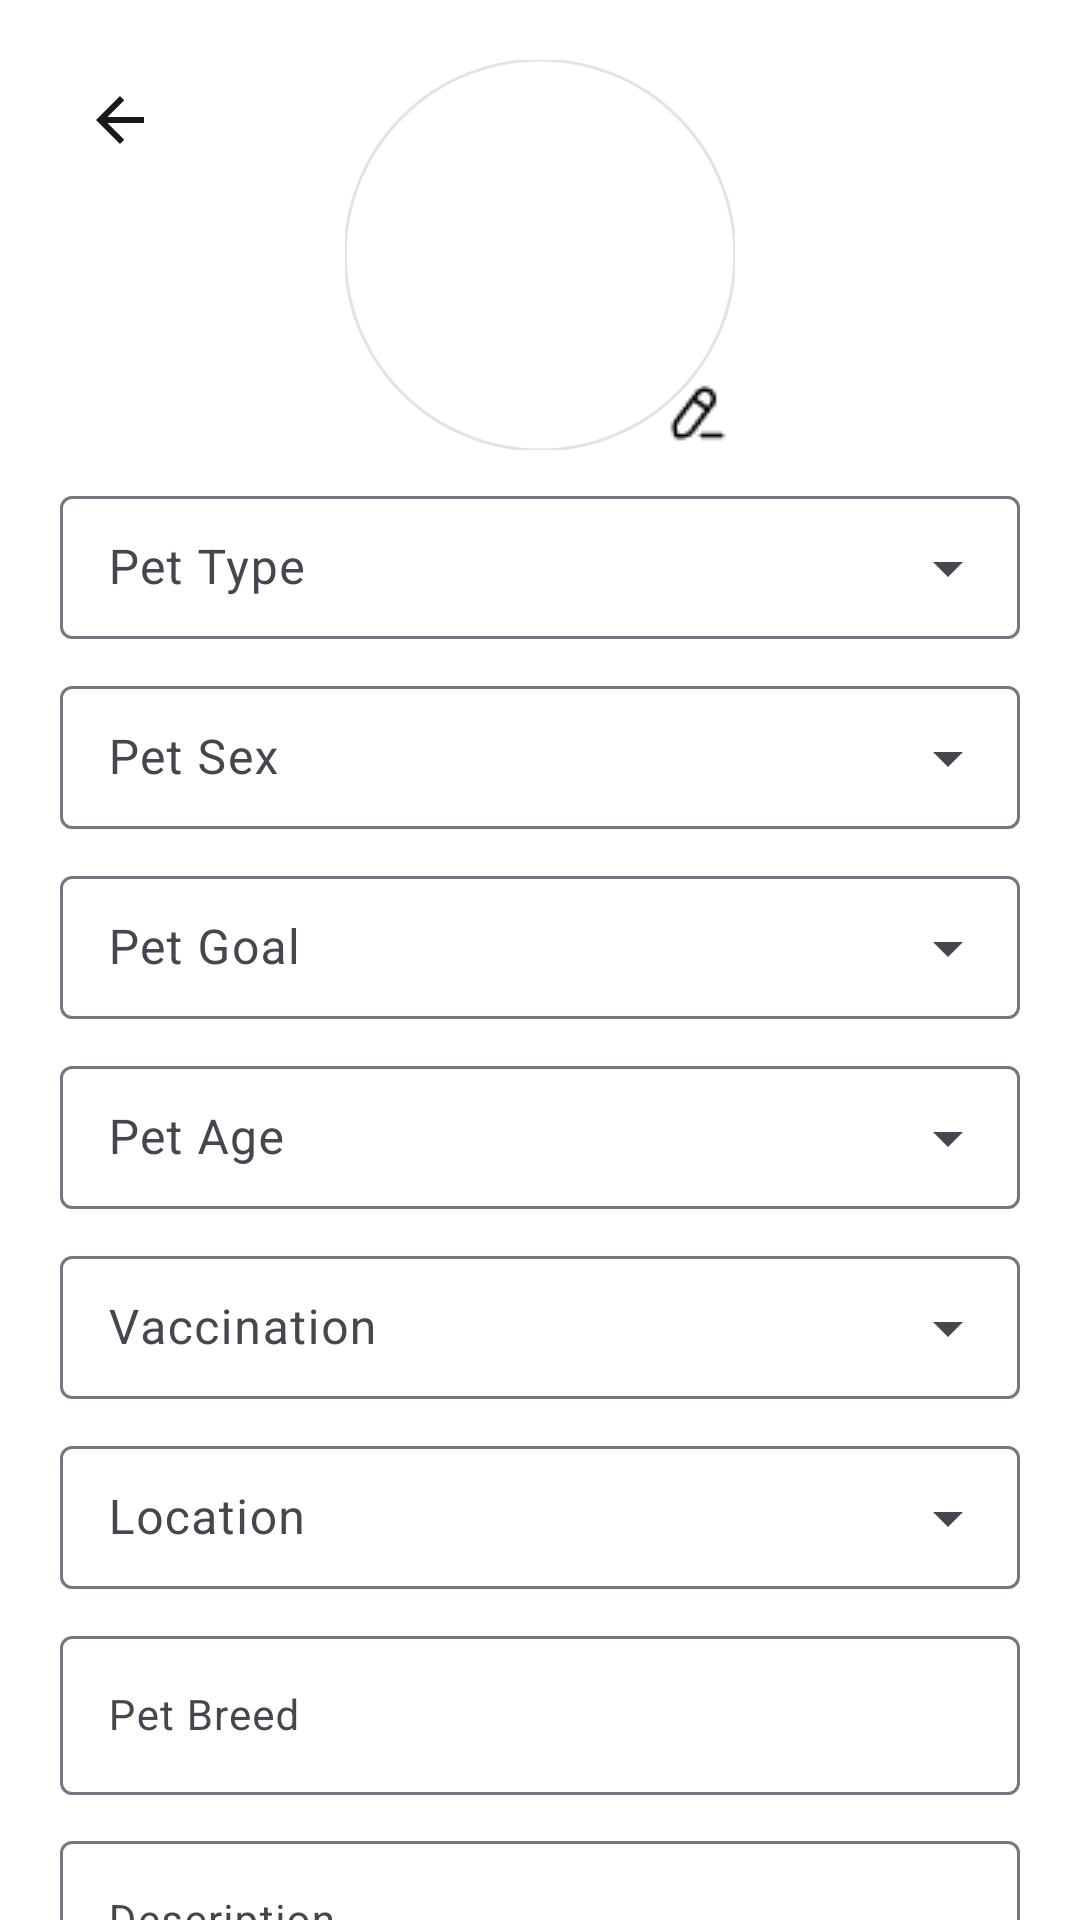

Where icons sit on this 1080 x 1920 app screen, as (x1, y1, x2, y2):
arrow back: (96, 96, 144, 144)
edit pet: (670, 385, 726, 441)
